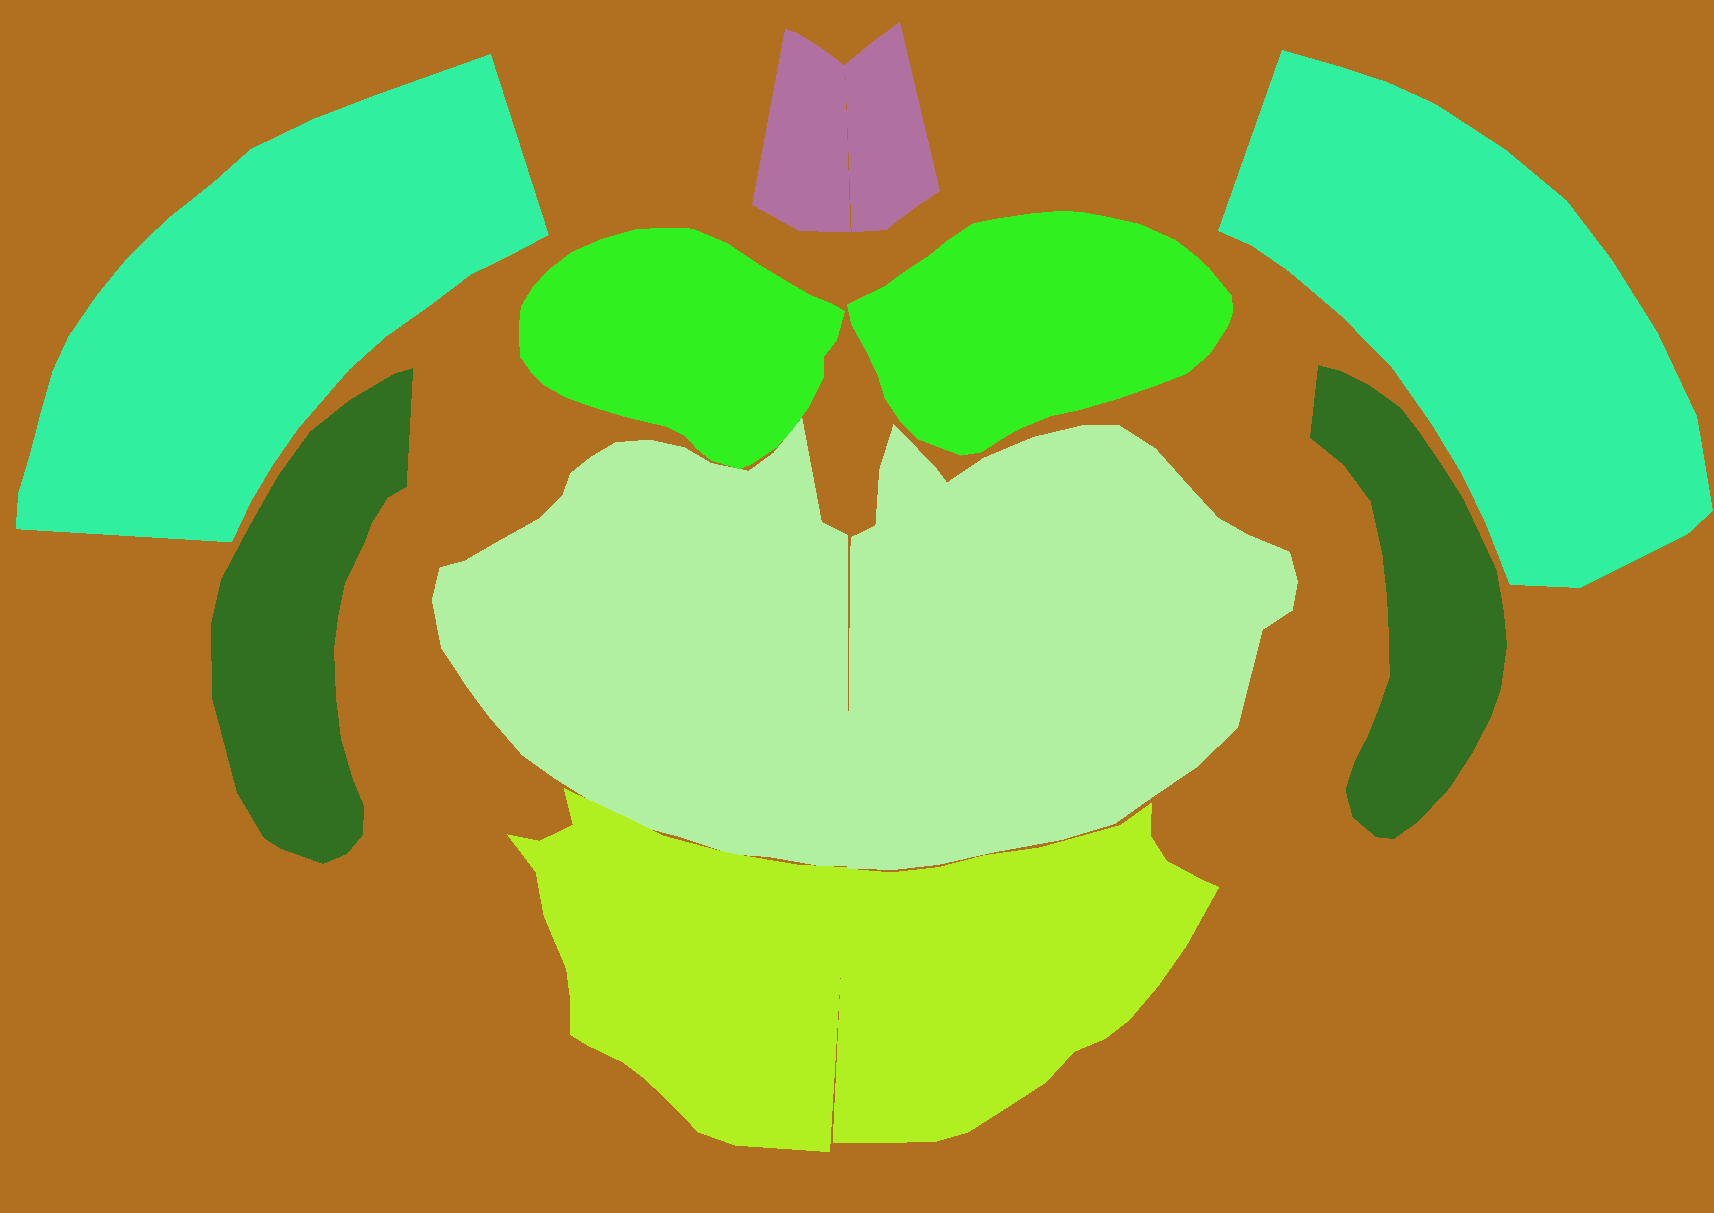Cerebral nuclei: (211, 368, 413, 864), (1310, 365, 1507, 839)
Hippocampal formation: (847, 211, 1232, 456), (518, 228, 845, 470)
Hypothalamus: (833, 802, 1221, 1143), (507, 788, 848, 1153)
Retrosplenial area: (752, 29, 850, 232), (845, 22, 940, 232)
Somatosensory area: (1218, 50, 1713, 588), (16, 54, 549, 542)
Thalamus: (847, 424, 1298, 870), (432, 417, 848, 866)
